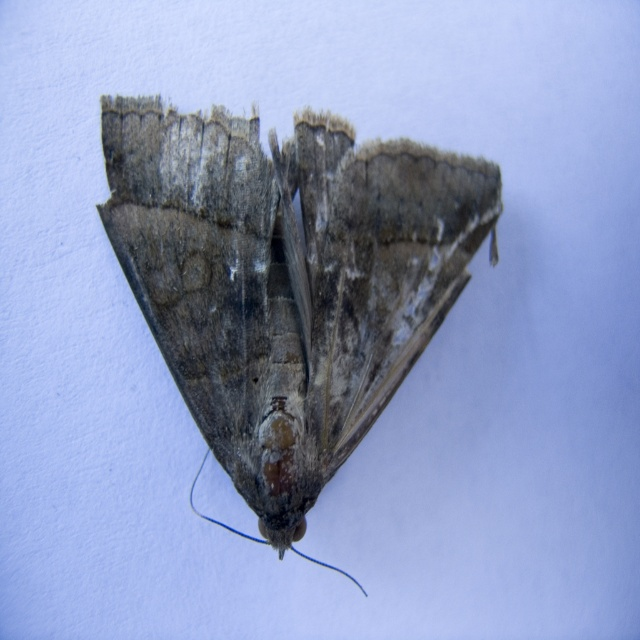Moths and butterflies: (92, 90, 506, 598)
